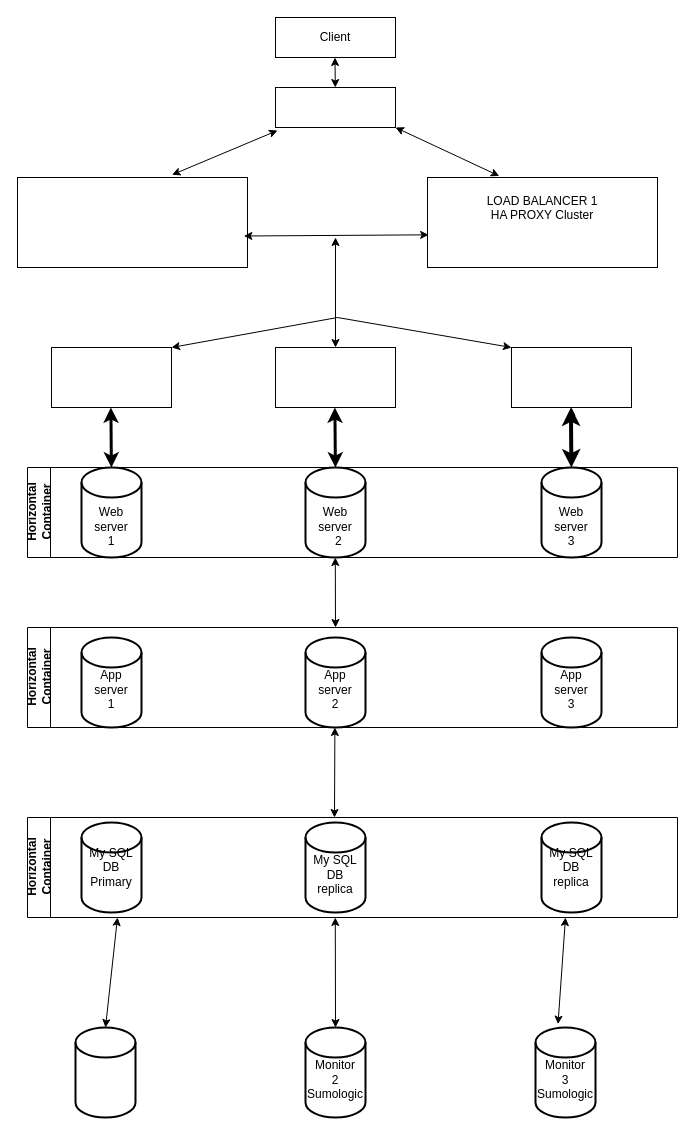
Image size: 695x1136. Some labels were removed from this diagram. The shapes that lost their labels are listed below. From the top down, each one's centre as x and y in pixels, then its label:
At (335,107): "Firewall 1".
At (132,222): "LOAD BALANCER 1 HA PROXY".
At (111,377): "FIREWALL 2".
At (335,377): "FIREWALL 3".
At (571,377): "FIREWALL 4".
At (105,1072): "Monitor 1 Sumologic".
